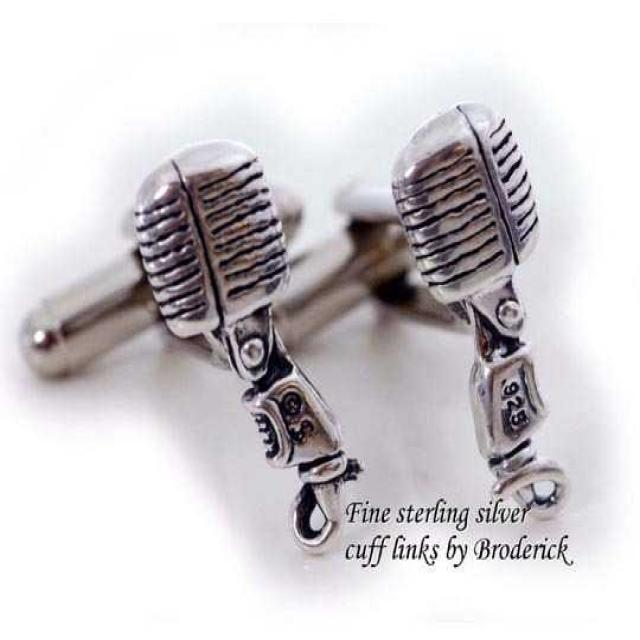microphone: (129, 128, 313, 362), (389, 97, 546, 338)
